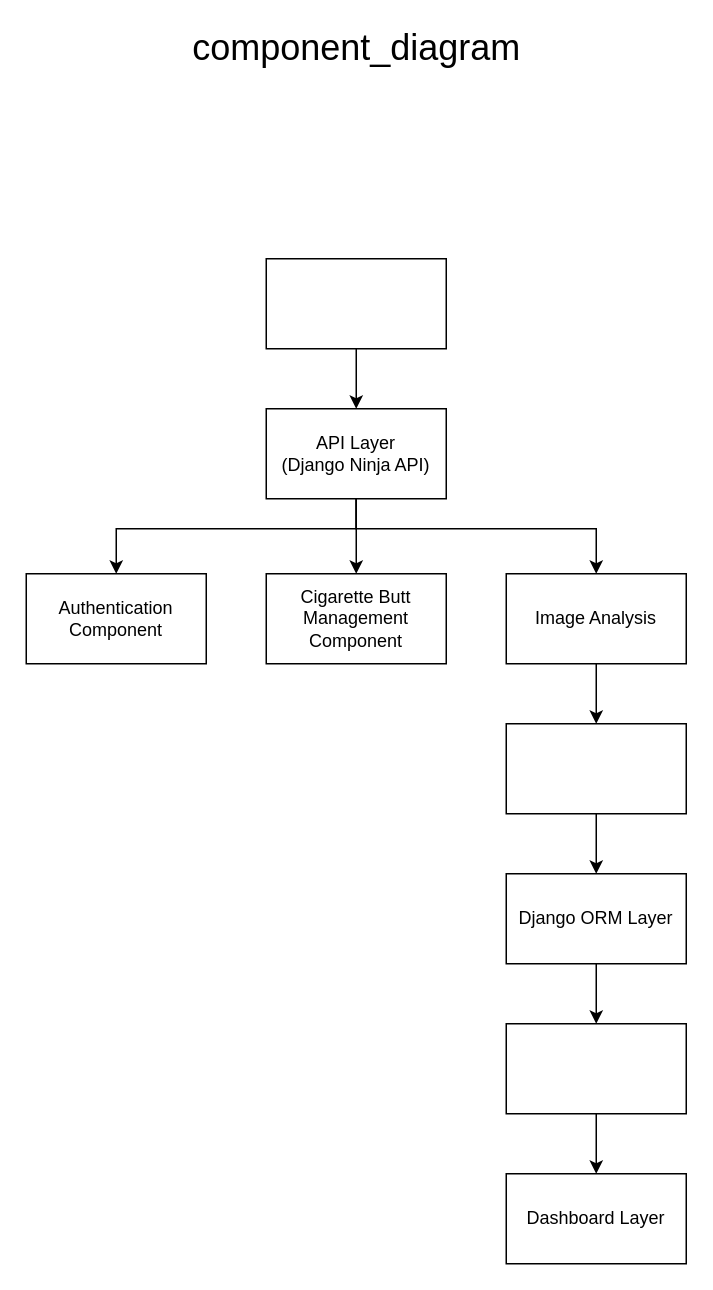
This 713x1290 diagram has some shape labels left out. The shapes that lost their labels are listed below. From the top down, each one's centre as x and y in pixels, then its label:
(355,303): Mobile Client
(595,768): Cloud Storage (eventually)
(595,1068): Database Layer
